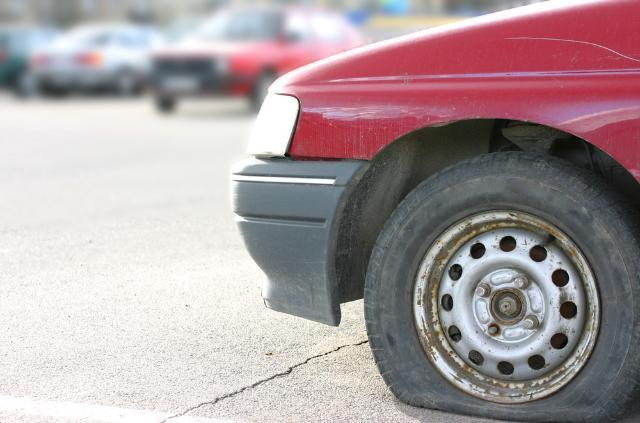scratch: (300, 101, 457, 123)
tire flat: (365, 152, 640, 423)
